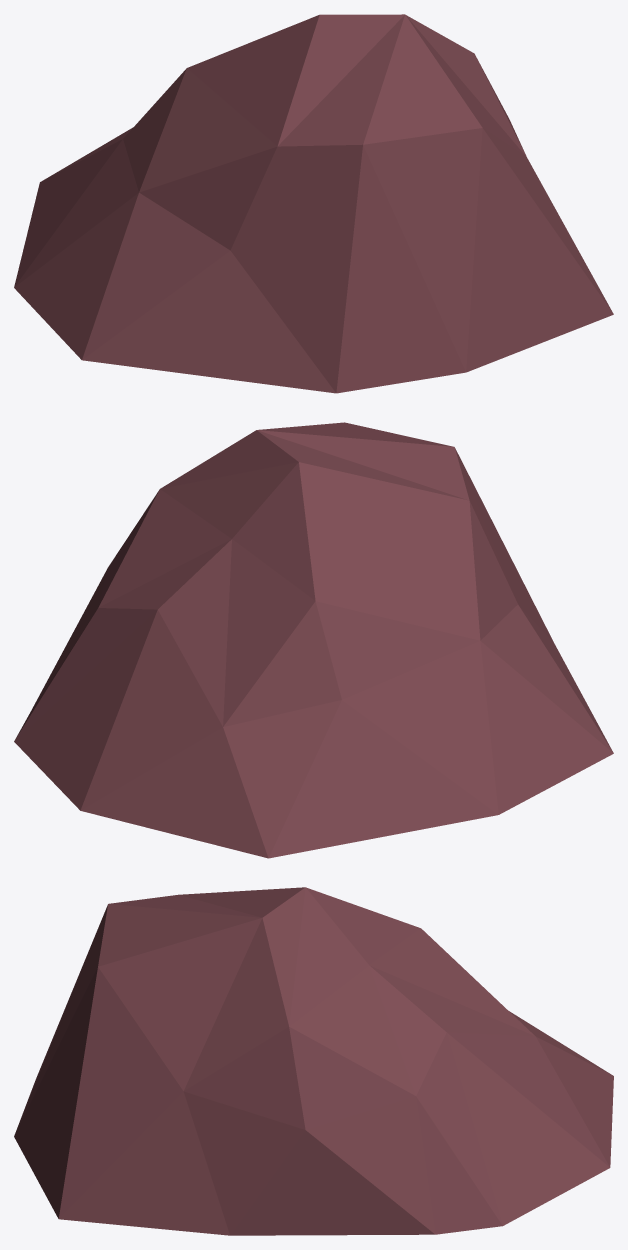
Rendered from rock_3.fbx.
3 views of the same model, one above another, from view 1: azimuth 30°, elevation 25°; view 2: azimuth 150°, elevation 25°; view 3: azimuth 270°, elevation 25° (orthographic).
Visible parts, largest first — view 1: Icosphere; view 2: Icosphere; view 3: Icosphere.
Boxes of the visible parts, x1=… form: Icosphere: x1=14, y1=14, x2=613, y2=393; Icosphere: x1=14, y1=422, x2=613, y2=858; Icosphere: x1=14, y1=887, x2=613, y2=1235.
Size of the model in its own units: 317 by 159 by 345.
